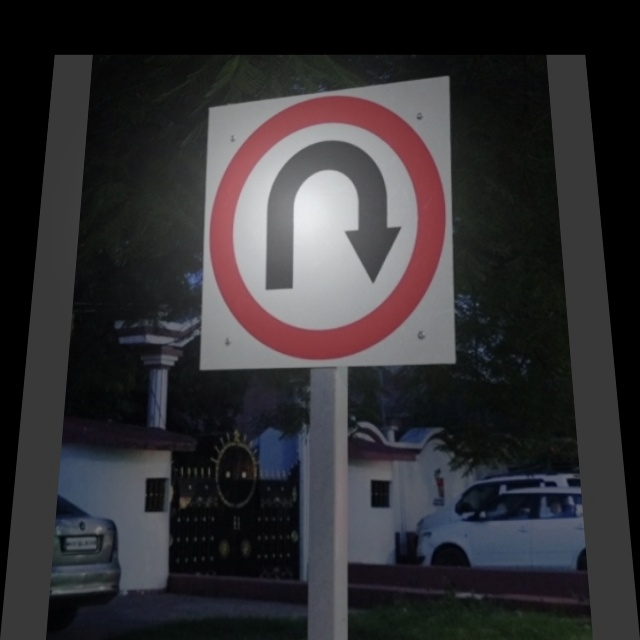U_Turn_Ahead: (195, 100, 455, 356)
